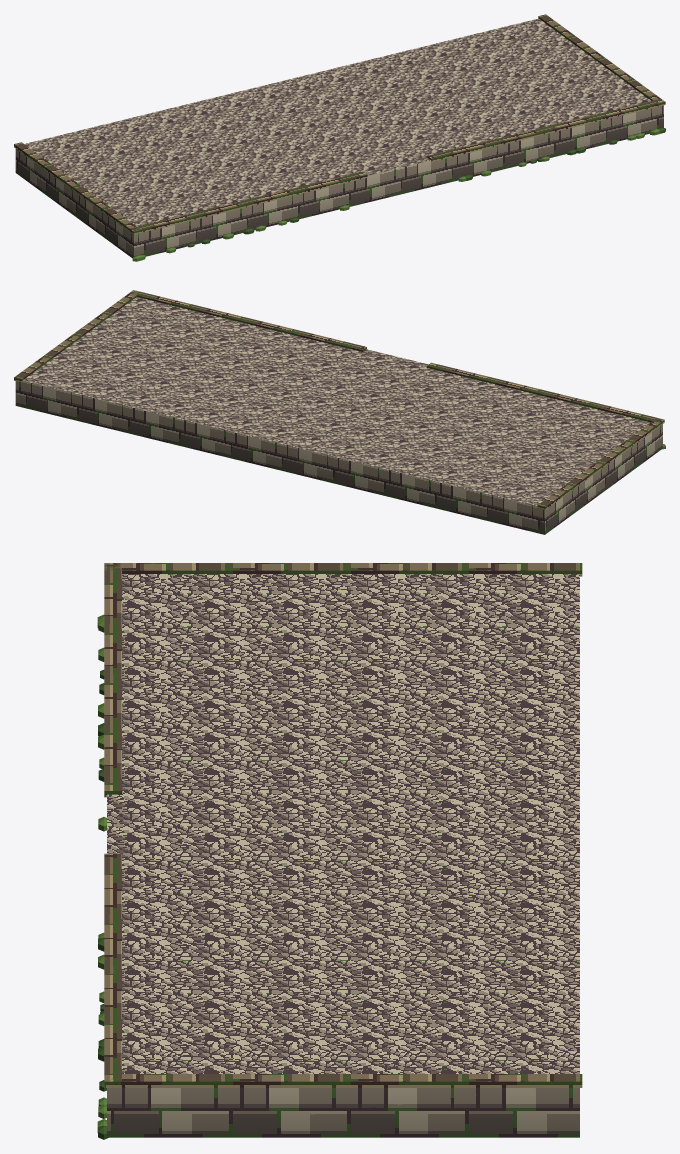
Rendered from scene_rail_row.glb.
3 renders of one model, top to bottom at view 1: azimuth 30°, elevation 25°; view 2: azimuth 150°, elevation 25°; view 3: azimuth 270°, elevation 25°, orthographic. The views are drawn at different scales.
Visible parts, largest first — view 1: scene_rail_row; view 2: scene_rail_row; view 3: scene_rail_row.
Boxes of the visible parts, left/top/right/bottom form: scene_rail_row: left=14, top=14, right=665, bottom=261; scene_rail_row: left=14, top=290, right=665, bottom=534; scene_rail_row: left=97, top=563, right=582, bottom=1139.
Size of the model in its own units: 24.96 by 1.37 by 9.84.
3 materials, 2 textured.
